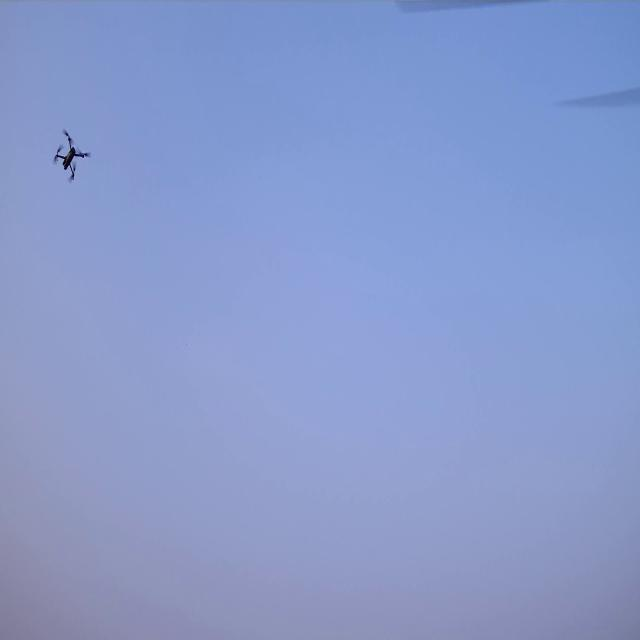UAV: (55, 133, 87, 179)
